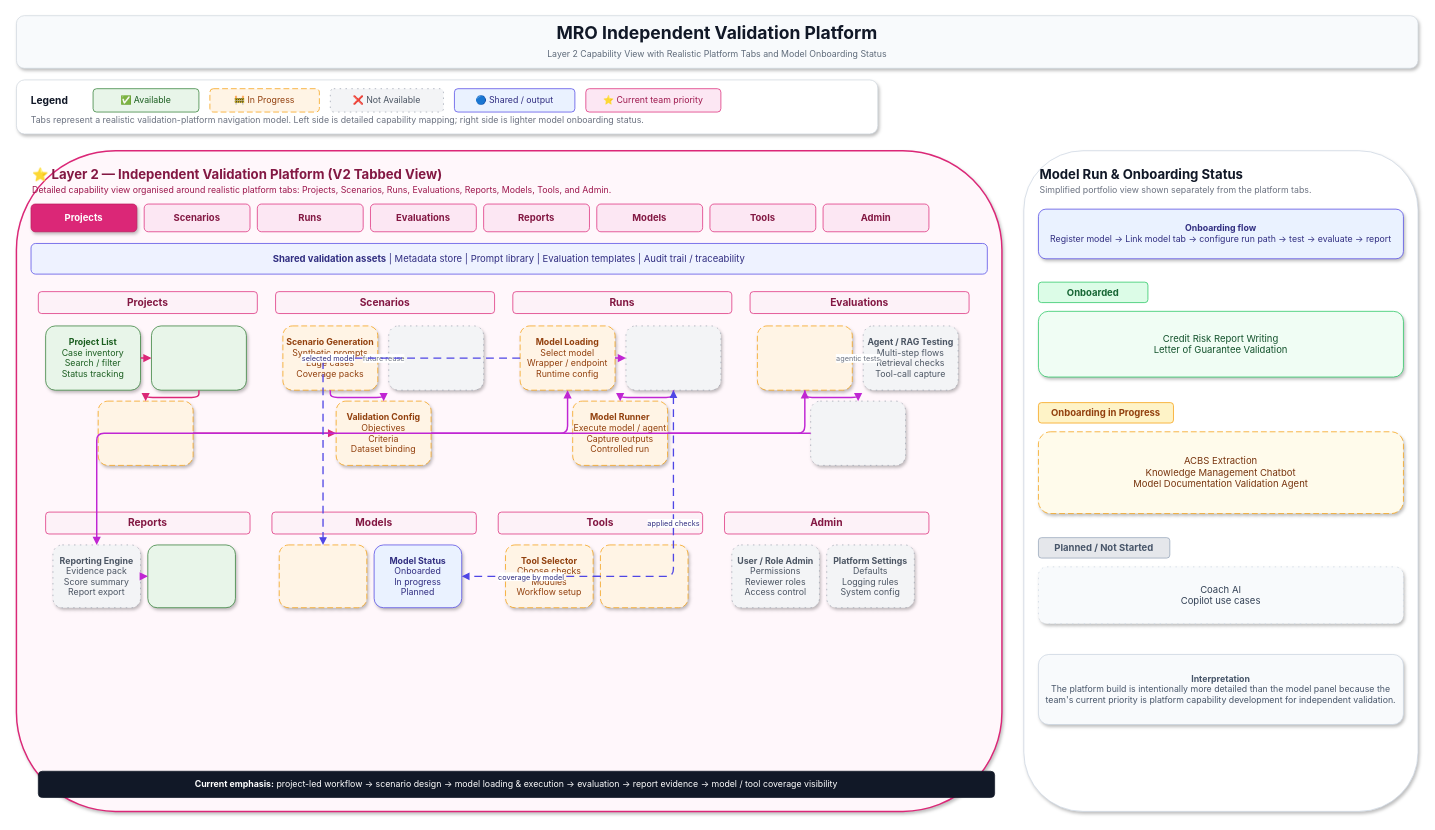
The diagram is 1435 pixels wide and 830 high, and some of its shapes have lost their labels. The shapes that lost their labels are listed below. From the top down, each one's centre as x and y in pixels, then its label:
At pixel 199 358: "Project Workspace Case metadata Owner / reviewer Versioning".
At pixel 436 358: "Scenario Library Reusable packs Domains Prompt groups".
At pixel 673 358: "Run Orchestrator Single / batch Workflow setup Queue control".
At pixel 805 358: "Evaluation Engine LLM-as-Judge Rules Hybrid scoring".
At pixel 146 433: "Submission Inputs Docs / prompts Configs Evidence files".
At pixel 858 433: "Explainability View Rationale Sample review Finding notes".
At pixel 192 577: "Run History Past runs Comparisons Traceability".
At pixel 323 577: "Model Registry Onboarded models Versions Connection info".
At pixel 644 577: "Coverage Matrix Which tools apply By use case Gaps view".
